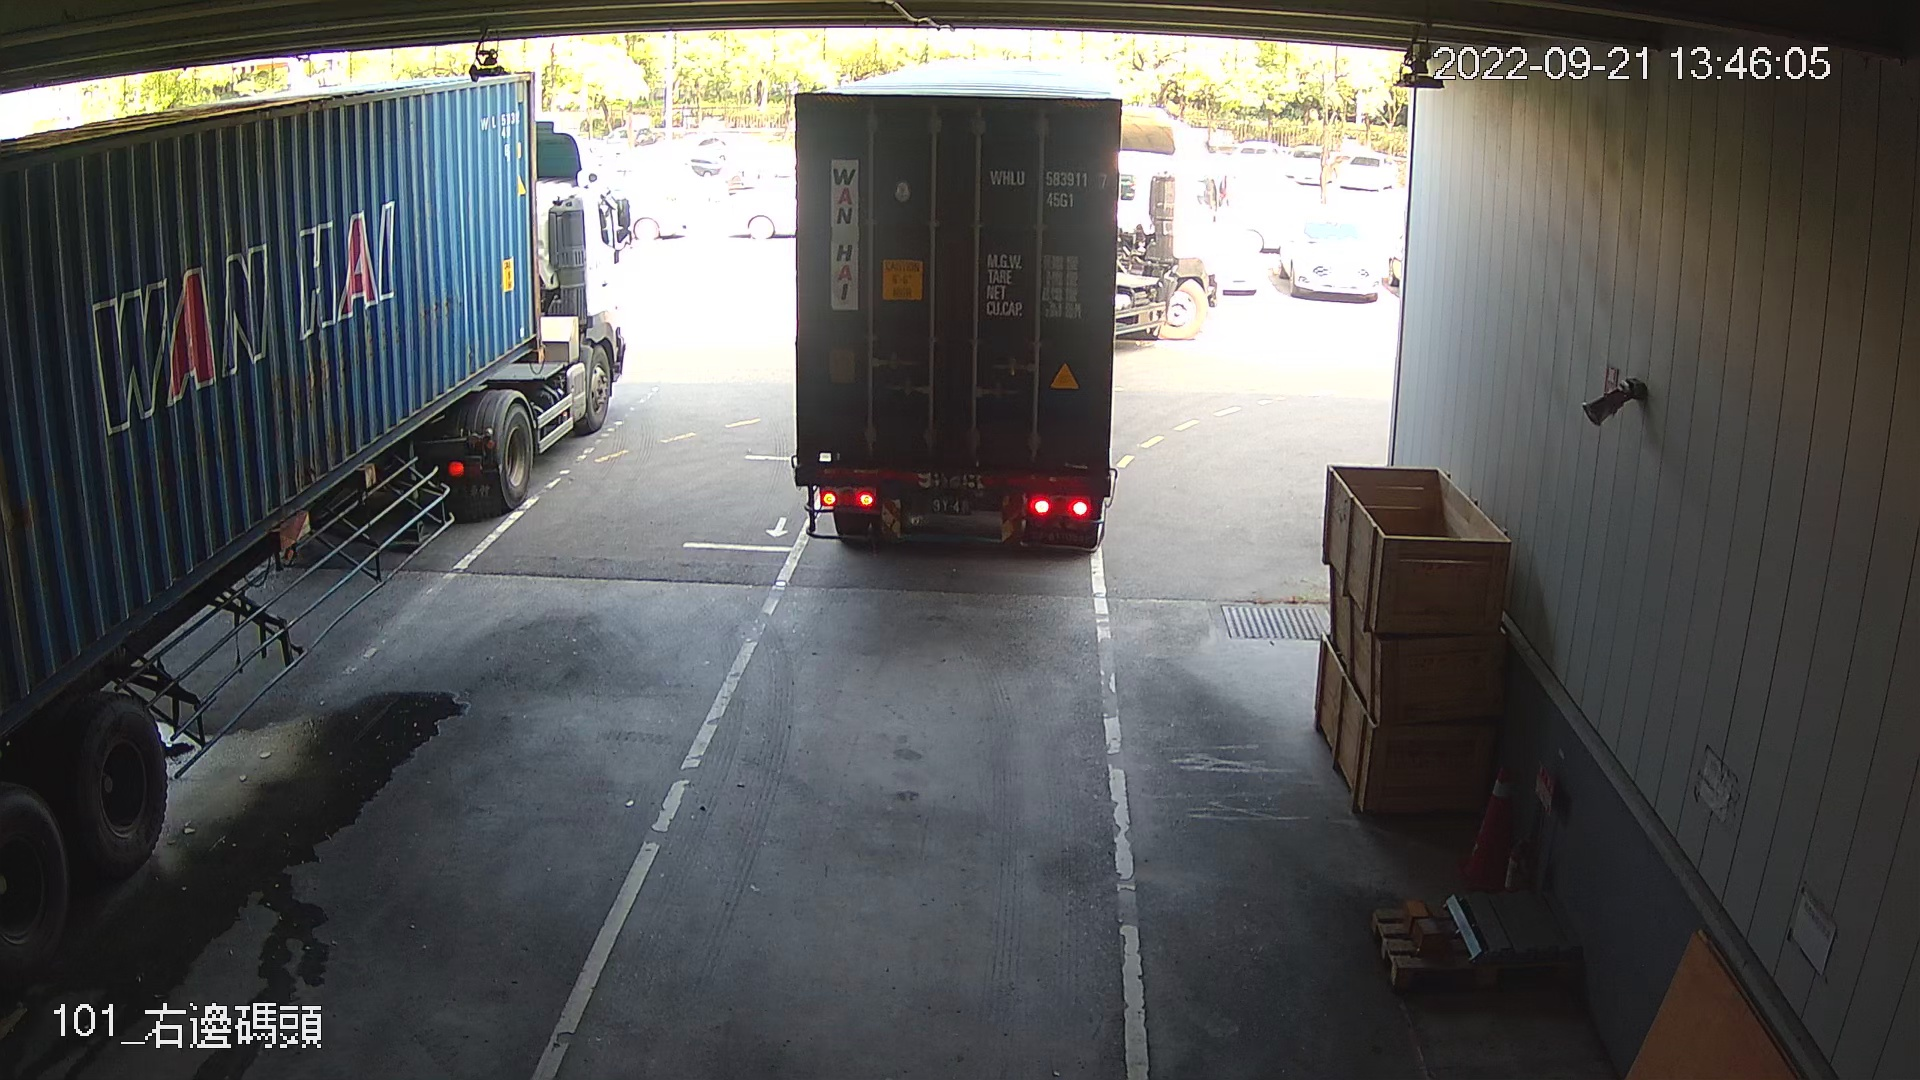container: (984, 161, 1114, 211)
